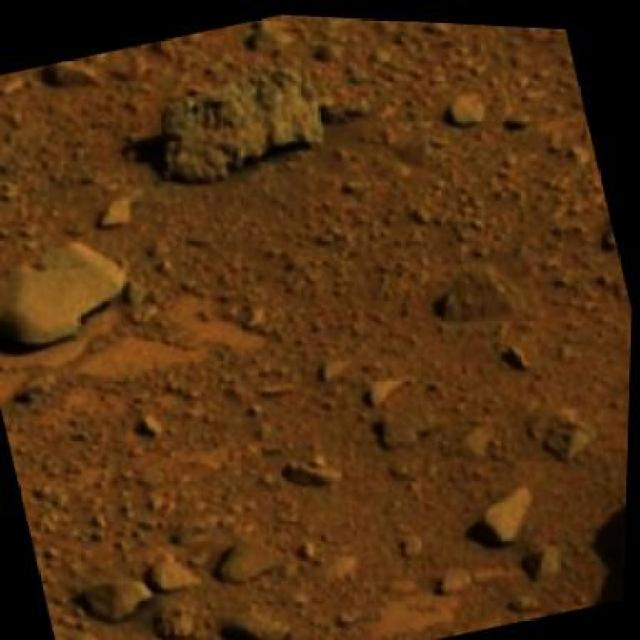rock: (140, 43, 346, 202), (0, 220, 155, 371)
